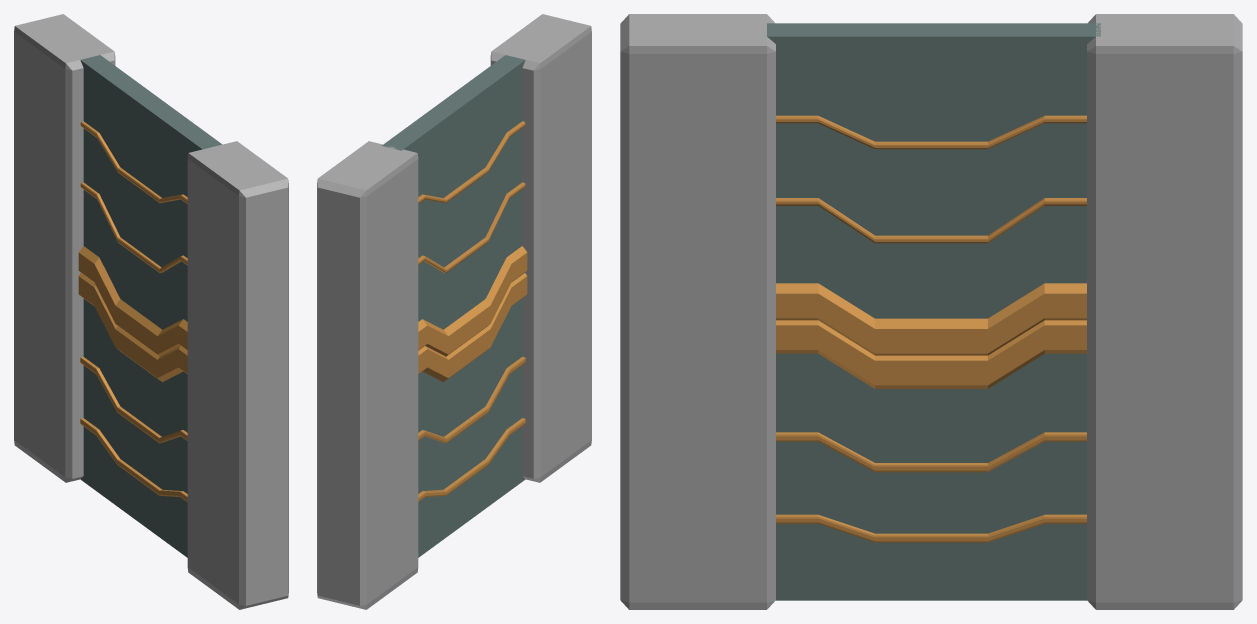
File: Doors002.fbx
The picture shows the model from 3 angles, left to right: view 1: azimuth 30°, elevation 25°; view 2: azimuth 150°, elevation 25°; view 3: azimuth 270°, elevation 25°; orthographic projection. The views are drawn at different scales.
Visible parts, largest first — view 1: Cube.000, Cube.001, Cube.003, Cube.002; view 2: Cube.001, Cube.000, Cube.003, Cube.002; view 3: Cube.003, Cube.000, Cube.001, Cube.002.
Boxes of the visible parts, left/top/right/bottom form: Cube.000: left=187, top=141, right=288, bottom=609; Cube.001: left=14, top=14, right=115, bottom=482; Cube.003: left=78, top=55, right=222, bottom=356; Cube.002: left=78, top=273, right=187, bottom=557; Cube.001: left=317, top=141, right=418, bottom=609; Cube.000: left=490, top=14, right=591, bottom=482; Cube.003: left=382, top=55, right=527, bottom=356; Cube.002: left=418, top=273, right=527, bottom=557; Cube.003: left=767, top=23, right=1100, bottom=355; Cube.000: left=620, top=14, right=775, bottom=609; Cube.001: left=1087, top=14, right=1242, bottom=609; Cube.002: left=776, top=320, right=1086, bottom=600.
Size of the model in its own units: 100 by 800 by 800.
